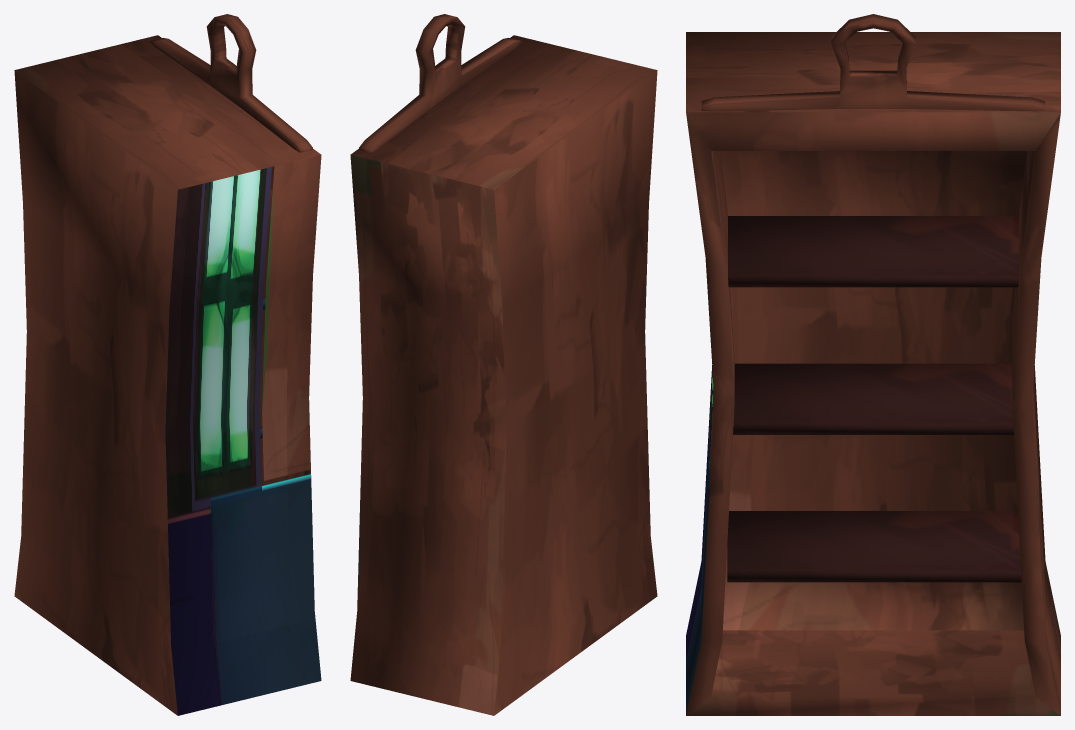
Rendered from Estante.fbx.
The picture shows the model from 3 angles, left to right: view 1: azimuth 30°, elevation 25°; view 2: azimuth 150°, elevation 25°; view 3: azimuth 270°, elevation 25°; orthographic projection. The views are drawn at different scales.
Visible parts, largest first — view 1: Estante; view 2: Estante; view 3: Estante.
Part boxes in pixels (<box>): Estante: <box>14,14,321,715</box>; Estante: <box>350,14,657,715</box>; Estante: <box>686,14,1060,715</box>.
Bounding box in the file's own units: 77.74 × 153 × 313.
